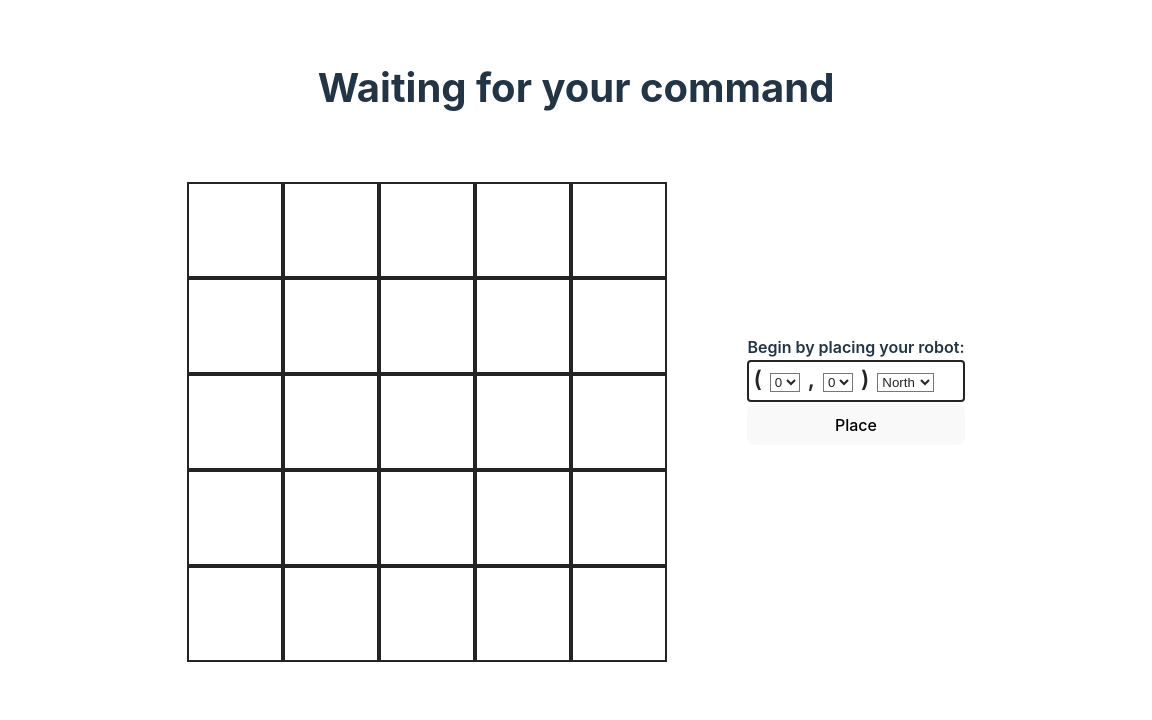
Test:  › clicking the button toggles whether the location is hidden
The width and height of the screenshot is (1152, 720).
Click the button "Place".
click(856, 425)  # box [747,404,964,445]
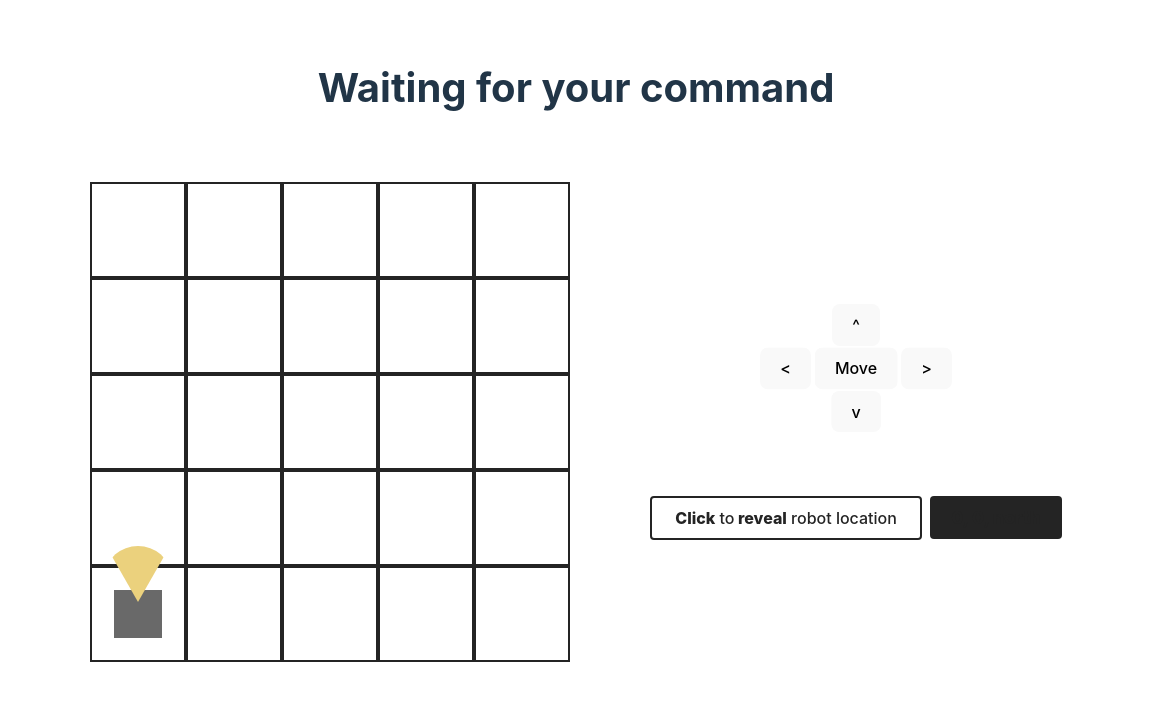
Now the button "Click to reveal robot location" is shown
Click the button "Click to reveal robot location".
click(786, 518)  # box [650,496,922,540]
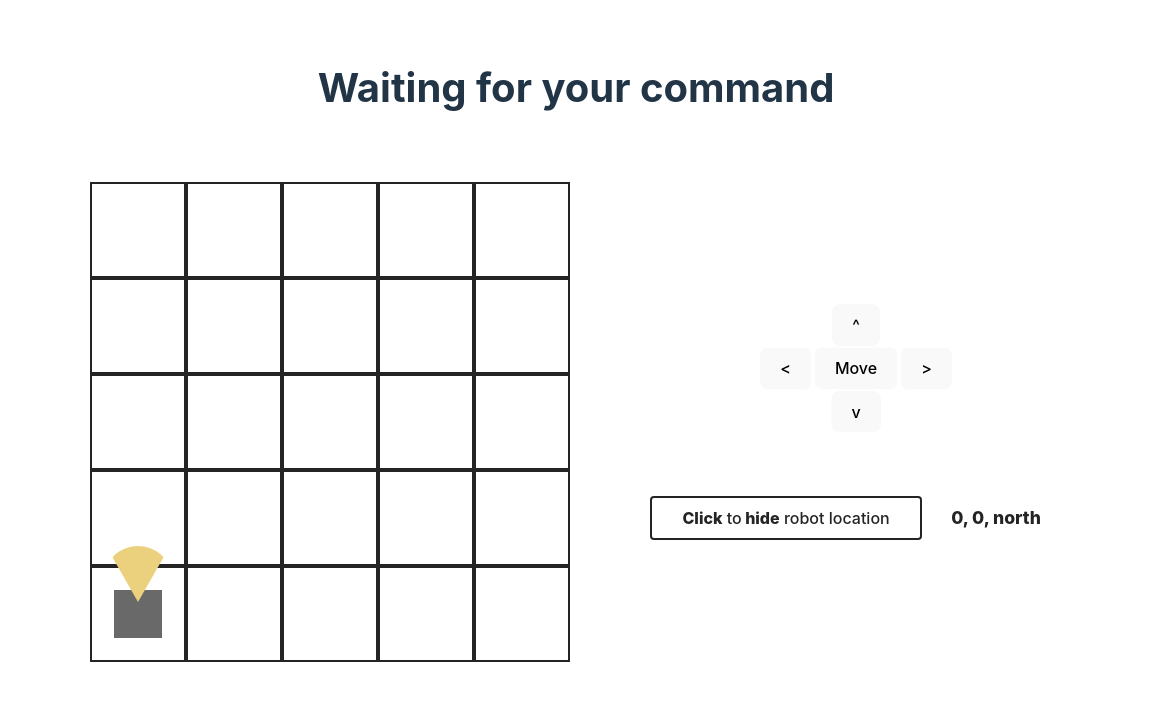
Now the button named "Click to reveal robot location" shows "hide", box [650,496,922,540]
